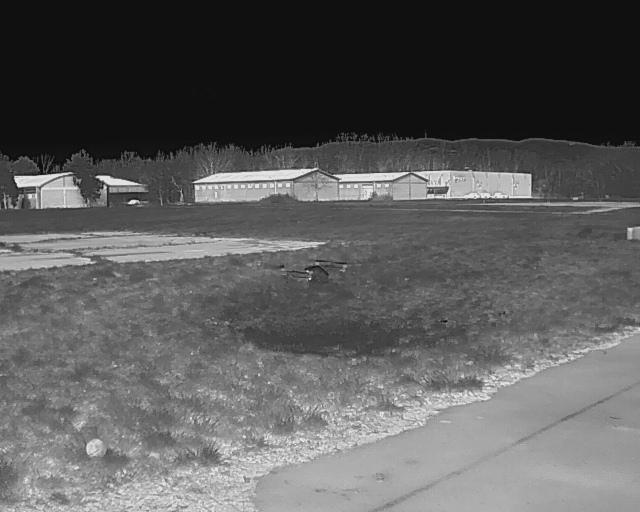drone: (270, 250, 349, 296)
